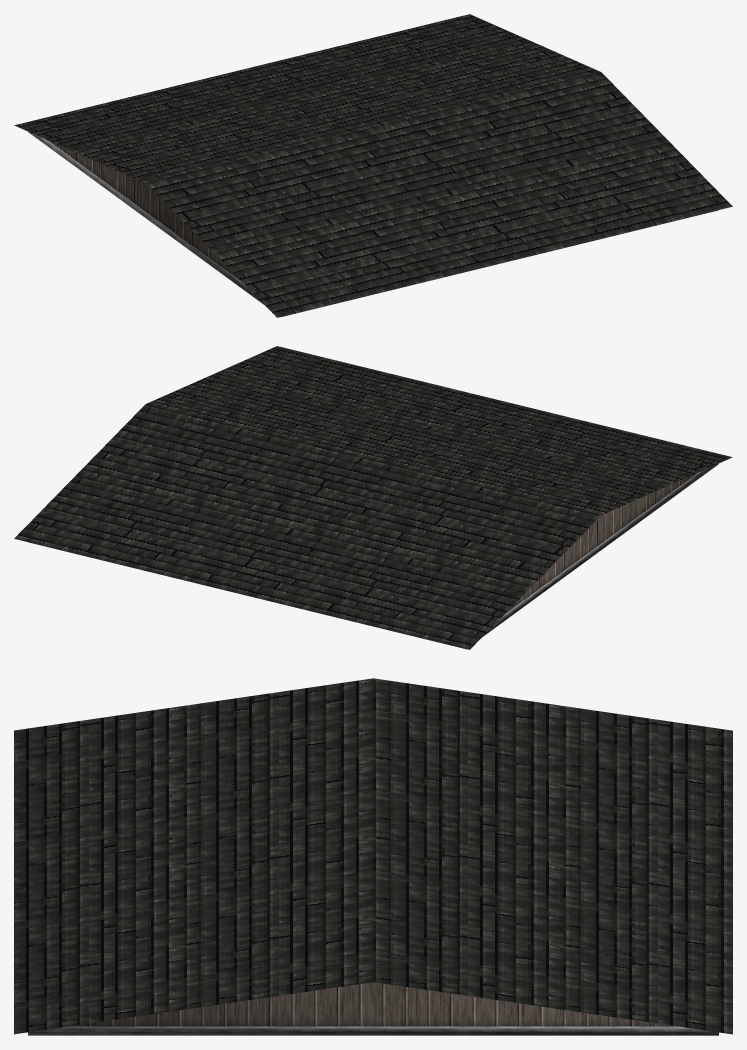
The model's file is roof14.obj.
3 renders of one model, top to bottom at view 1: azimuth 30°, elevation 25°; view 2: azimuth 150°, elevation 25°; view 3: azimuth 270°, elevation 25°, orthographic. The views are drawn at different scales.
Parts seen in each view (by area): view 1: PRLD07B.004; view 2: PRLD07B.004; view 3: PRLD07B.004.
Part boxes in pixels (<box>): PRLD07B.004: <box>14,14,732,317</box>; PRLD07B.004: <box>14,346,732,649</box>; PRLD07B.004: <box>14,678,732,1035</box>.
Size of the model in its own units: 516 by 47 by 516.
